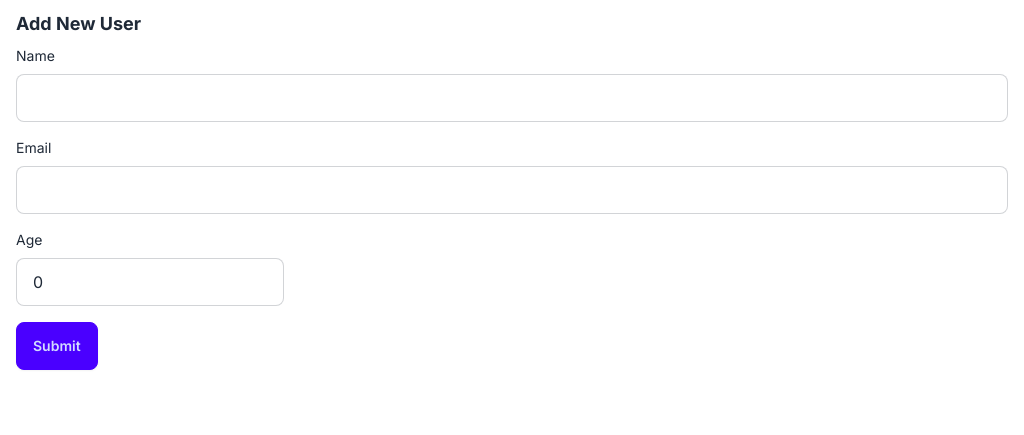
Scenario: UserForm component › should display form validation errors
Click the button "Submit" at point(57, 346), box x1=16 y1=322 x2=98 y2=370
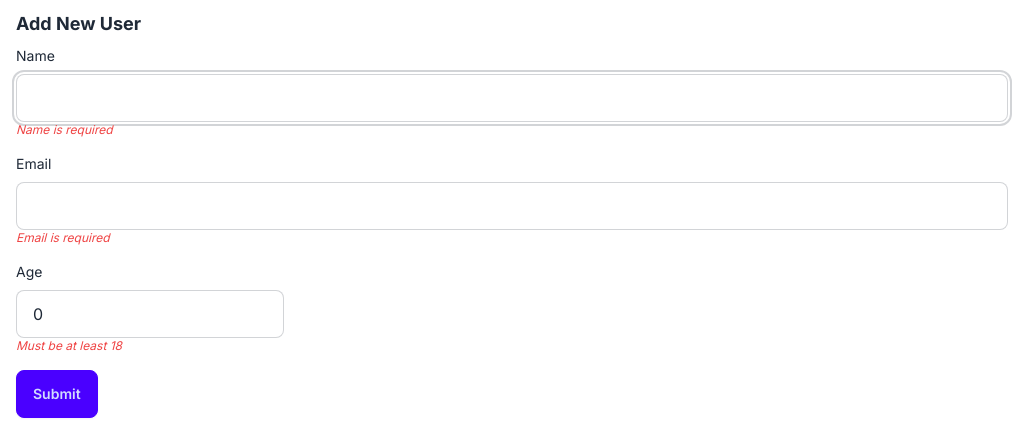
expect the text "Name is required" is shown: met, box x1=16 y1=122 x2=113 y2=137
expect the text "Email is required" is shown: met, box x1=16 y1=230 x2=110 y2=245
expect the text "Must be at least 18" is shown: met, box x1=16 y1=338 x2=122 y2=353
